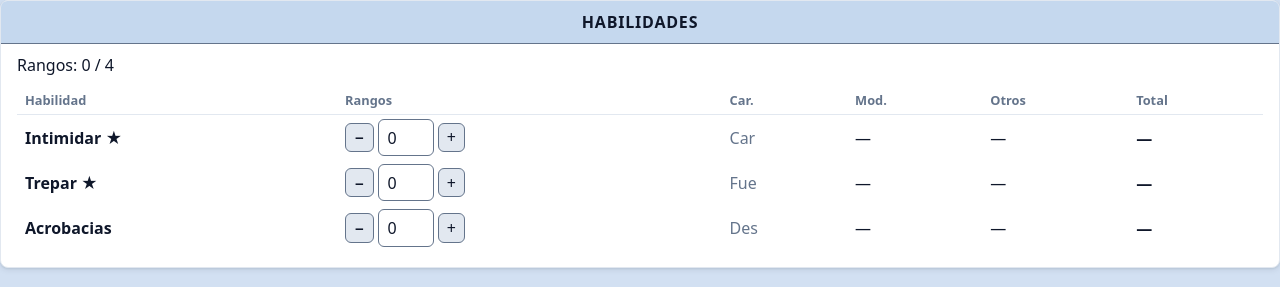
Test: SkillsSection › drops a skill back to zero (only non-zero ranks persist)
This screenshot has width=1280, height=287.
Step 1. Click the button named "Subir rango de Intimidar" → (451, 138), box [438,123,465,152]
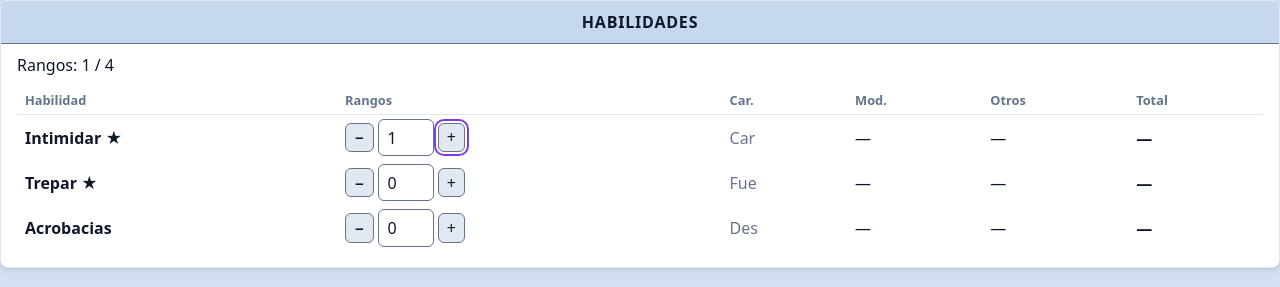
Step 2. Click the button named "Bajar rango de Intimidar" → (359, 138), box [345,123,374,152]
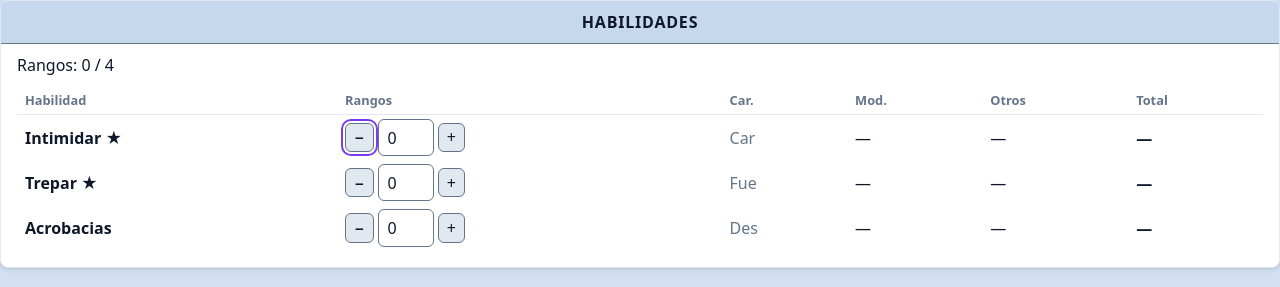
Check: the message reads "Rangos: 0 / 4", box [17,54,114,76]
Check: the number field named "Intimidar" holds "0", box [378,119,434,156]
